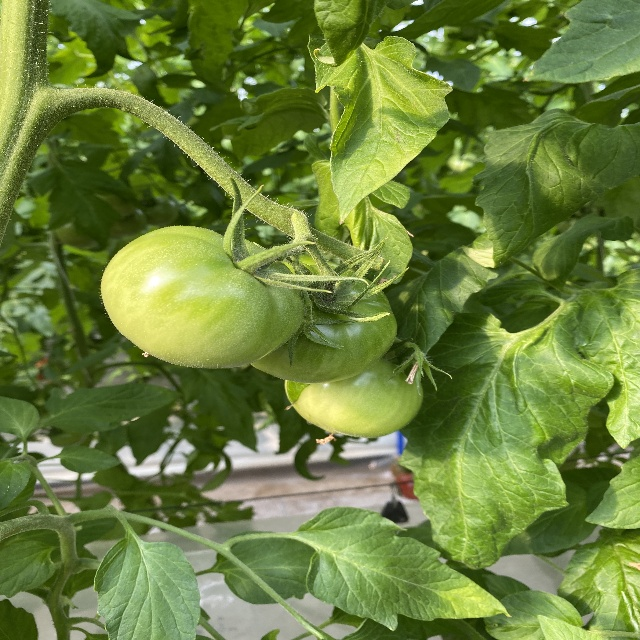b_green: (100, 225, 304, 369), (250, 264, 396, 384), (286, 352, 423, 438)
